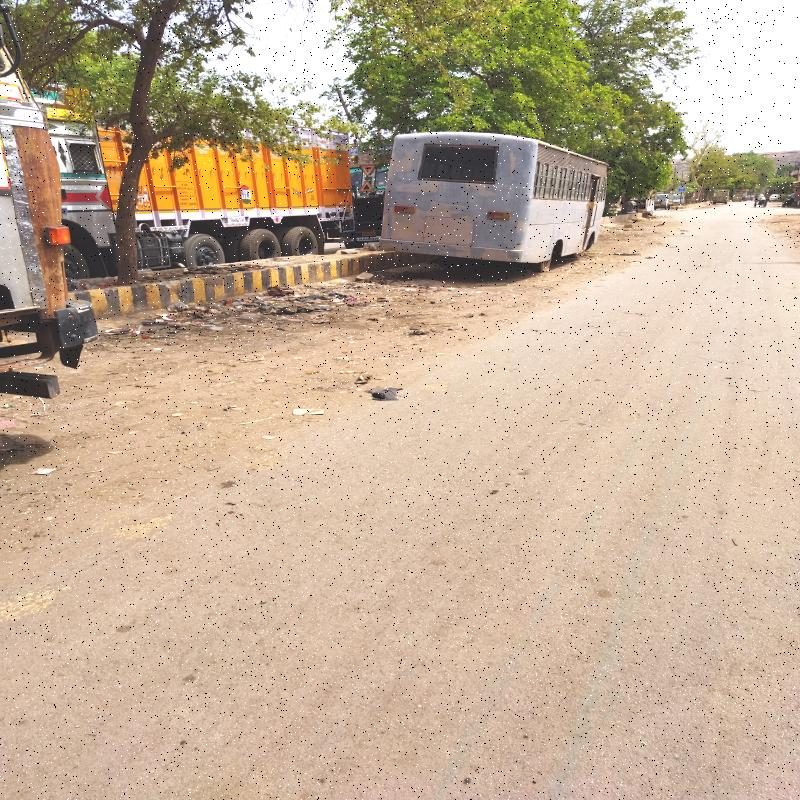bus: (382, 134, 618, 272)
